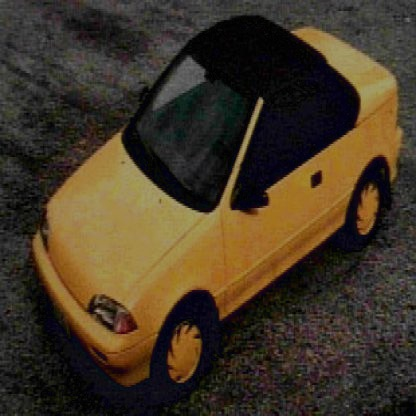Vehicle: (34, 18, 405, 394)
